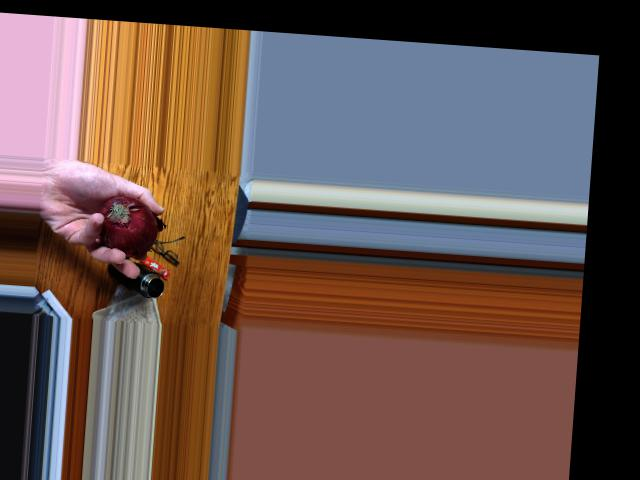onion: (89, 190, 155, 251)
